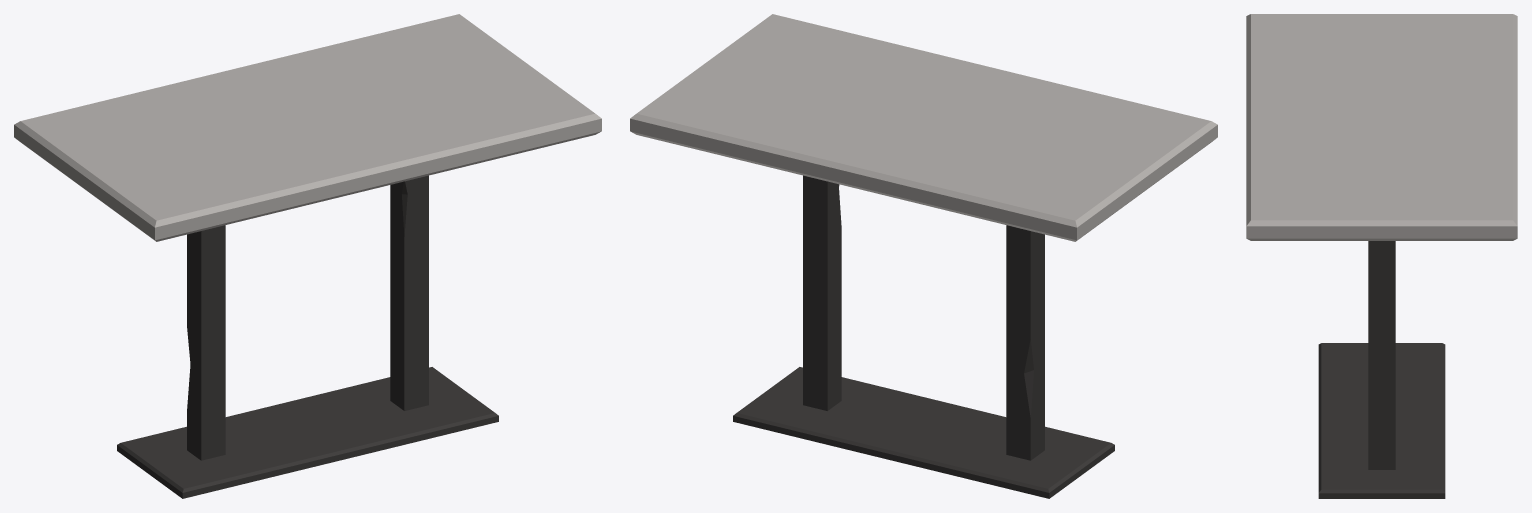
File: SM_Props_Interior_Shop_Restaurant_Table_05.fbx
3 views of the same model, side by side, from view 1: azimuth 30°, elevation 25°; view 2: azimuth 150°, elevation 25°; view 3: azimuth 270°, elevation 25° (orthographic). The views are drawn at different scales.
Parts seen in each view (by area): view 1: SM_Props_Interior_Shop_Restaurant_Table_05; view 2: SM_Props_Interior_Shop_Restaurant_Table_05; view 3: SM_Props_Interior_Shop_Restaurant_Table_05.
Part boxes in pixels (x1,y1,x2,y2): SM_Props_Interior_Shop_Restaurant_Table_05: [14, 14, 601, 498]; SM_Props_Interior_Shop_Restaurant_Table_05: [630, 14, 1217, 498]; SM_Props_Interior_Shop_Restaurant_Table_05: [1246, 14, 1517, 498].
Size of the model in its own units: 110 by 75 by 60.
